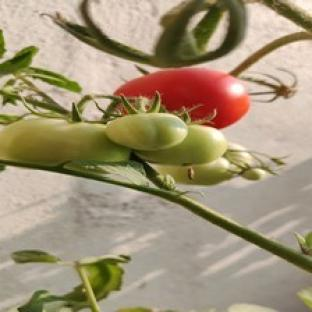Tomato: (115, 67, 250, 128), (0, 119, 130, 165), (136, 124, 227, 165), (106, 113, 188, 150), (155, 158, 235, 185), (225, 143, 254, 167), (241, 168, 267, 181)
